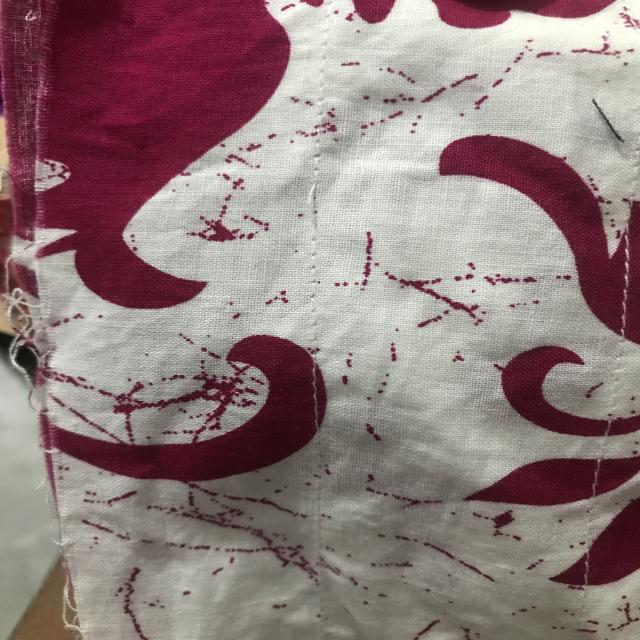skip: (288, 178, 331, 240)
